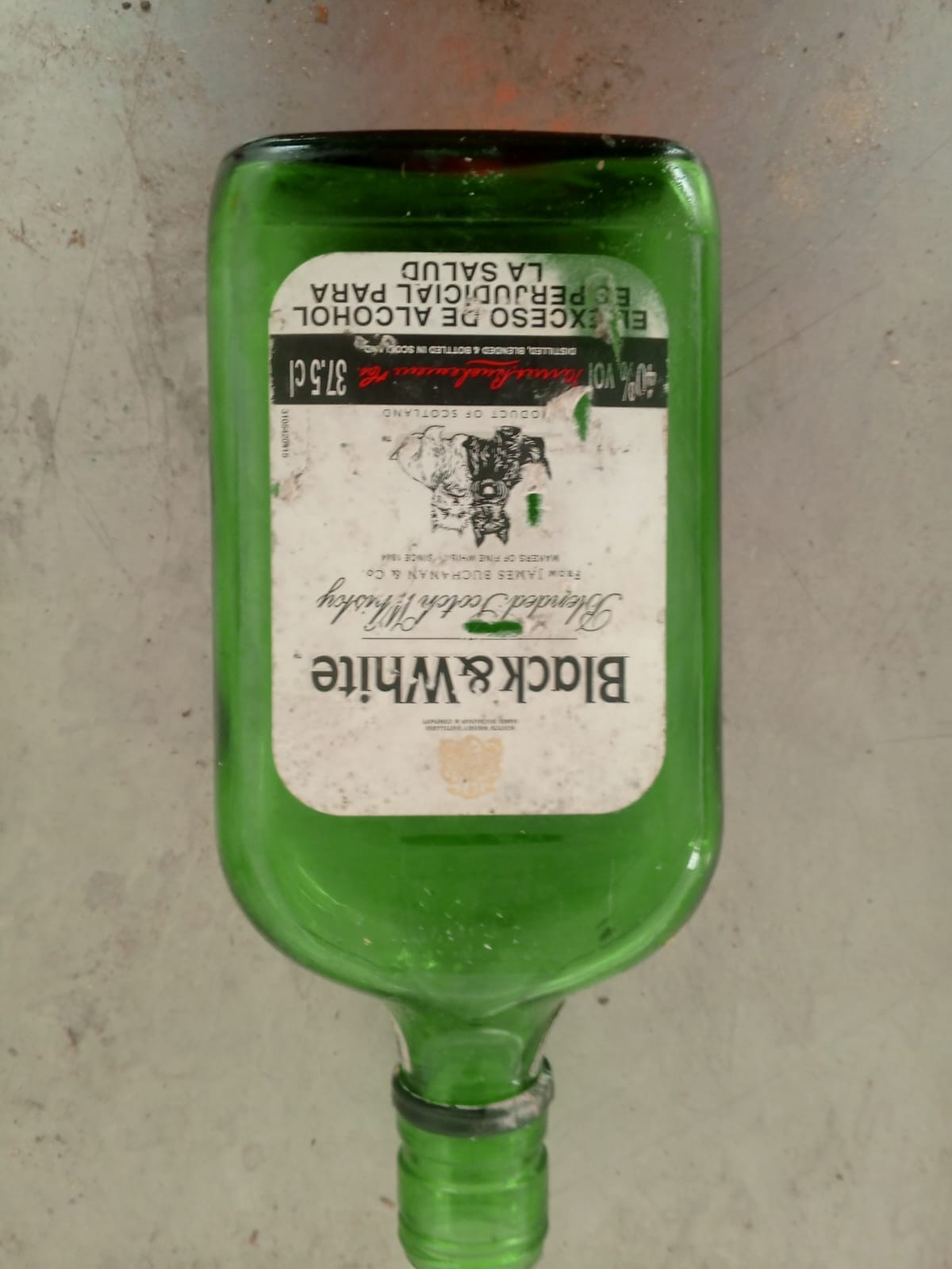Vidrio: (207, 129, 722, 1269)
